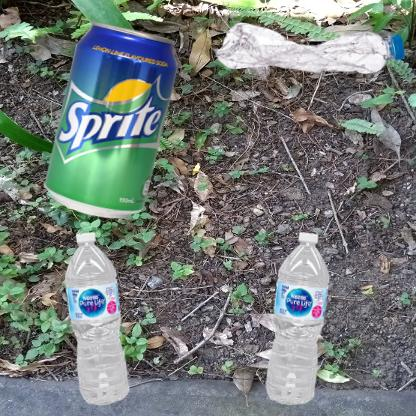botella: (10, 213, 186, 416), (213, 213, 389, 416), (213, 10, 412, 80)
lata: (10, 10, 223, 246)
